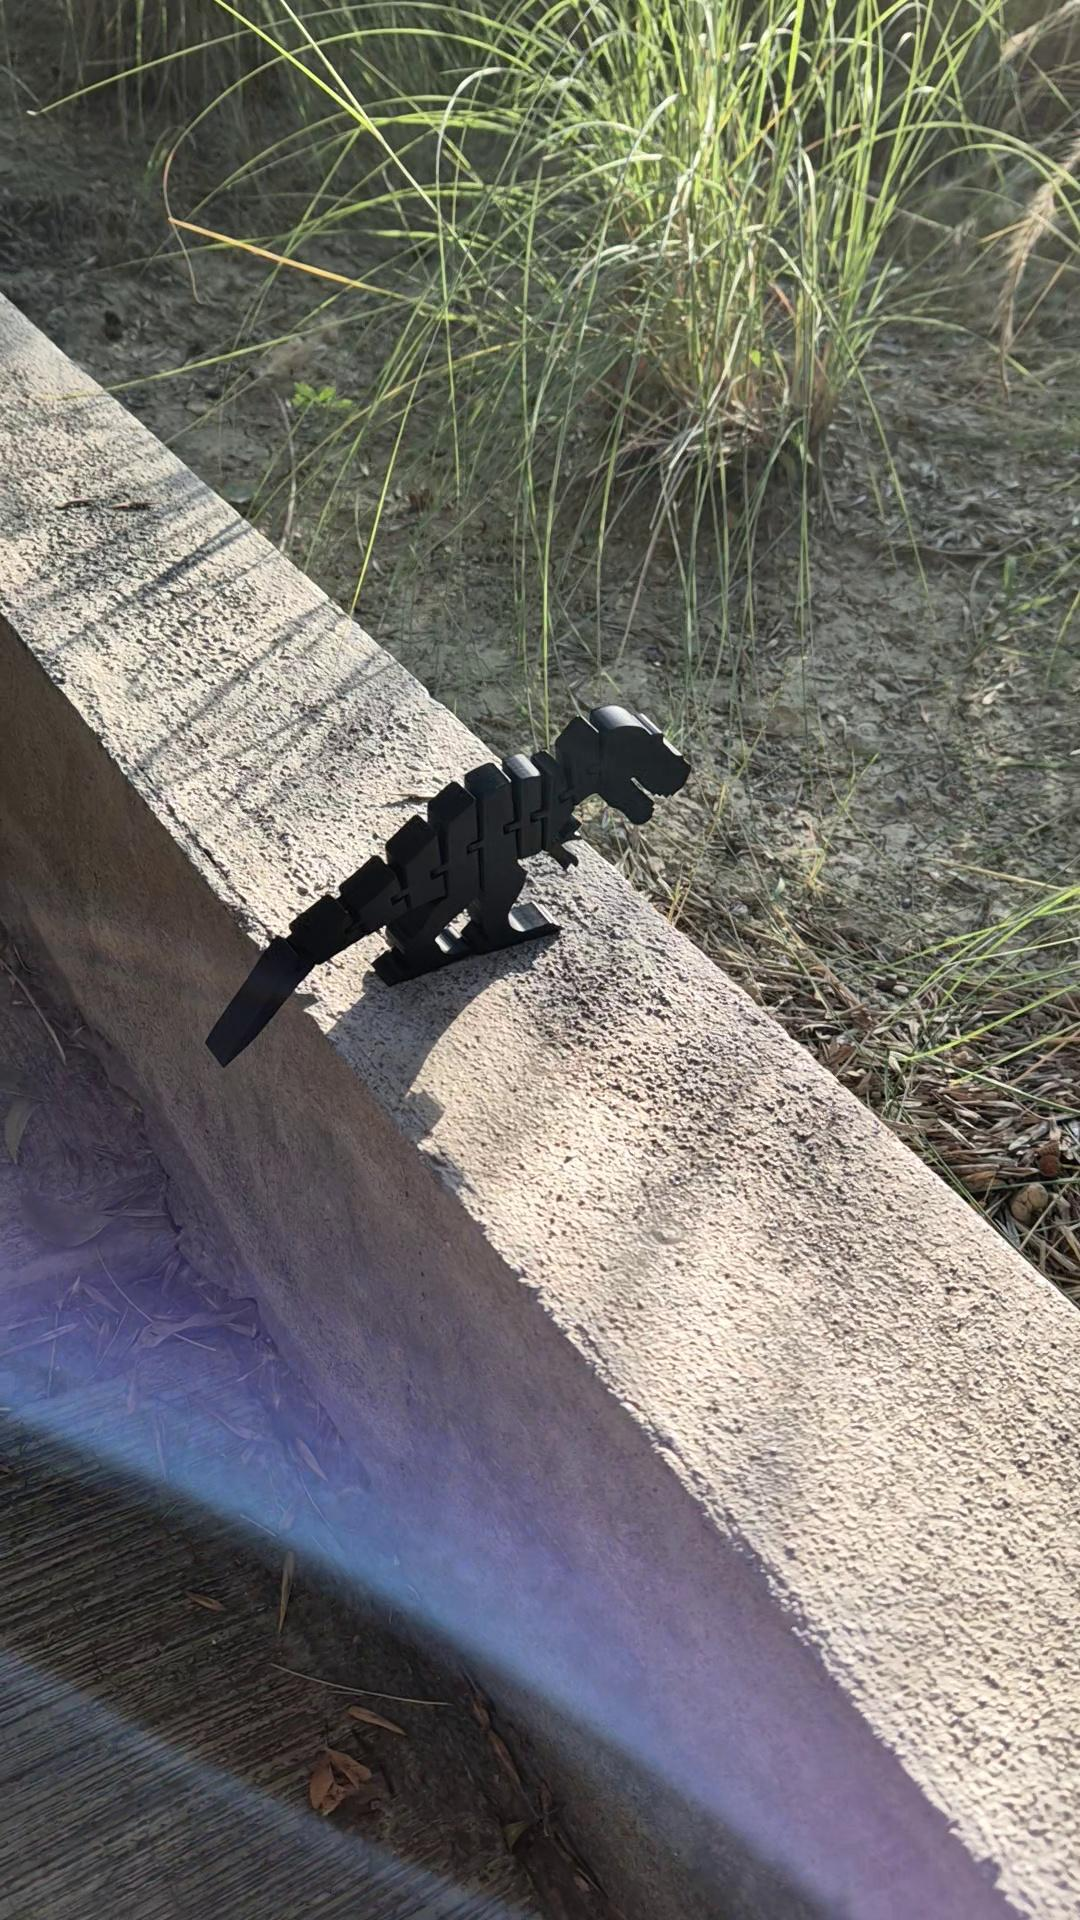dinosaur: (202, 702, 694, 1069)
